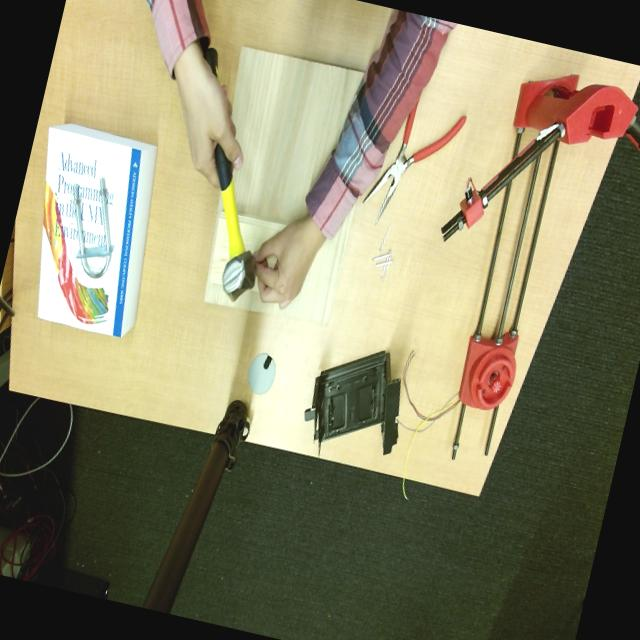hammer: (214, 144, 255, 300)
pliers: (365, 105, 465, 220)
